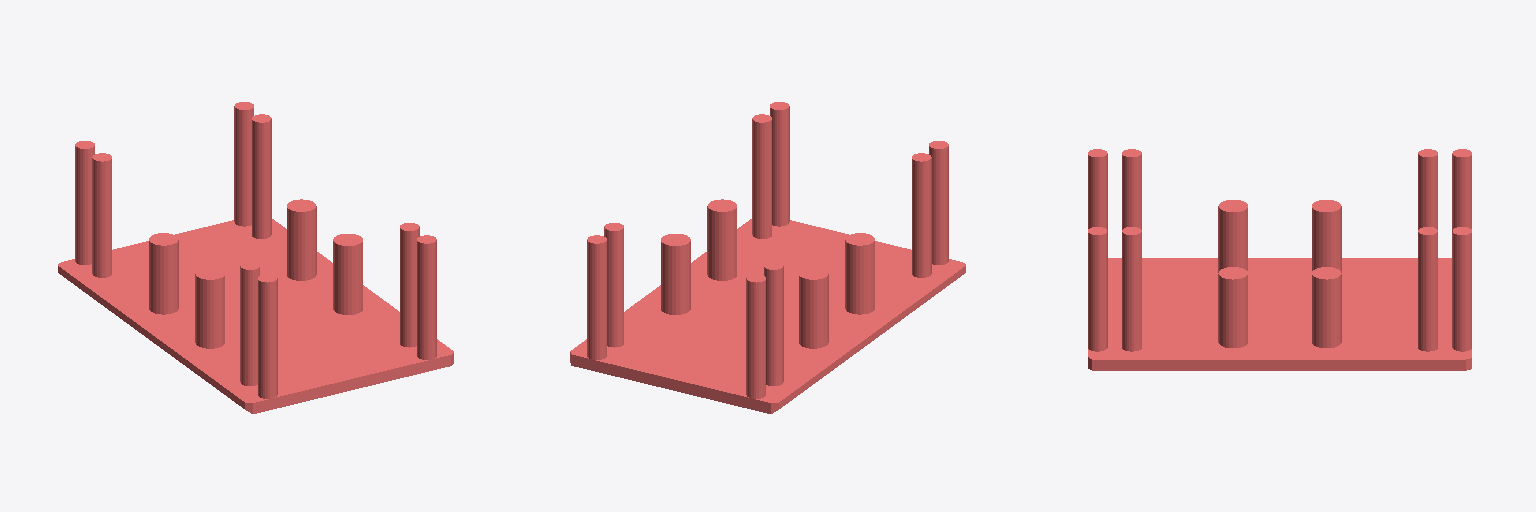
File: sidePlate.obj
The picture shows the model from 3 angles: view 1: azimuth 30°, elevation 25°; view 2: azimuth 150°, elevation 25°; view 3: azimuth 270°, elevation 25°; orthographic projection.
Visible parts, largest first — view 1: Root|sidePlate_(Default)|Default|color; view 2: Root|sidePlate_(Default)|Default|color; view 3: Root|sidePlate_(Default)|Default|color.
Boxes of the visible parts, x1,y1,x2,y2 form: Root|sidePlate_(Default)|Default|color: [58, 102, 453, 413]; Root|sidePlate_(Default)|Default|color: [570, 102, 965, 413]; Root|sidePlate_(Default)|Default|color: [1088, 149, 1471, 370].
Bounding box in the file's own units: 0.1936 × 0.113 × 0.3085.